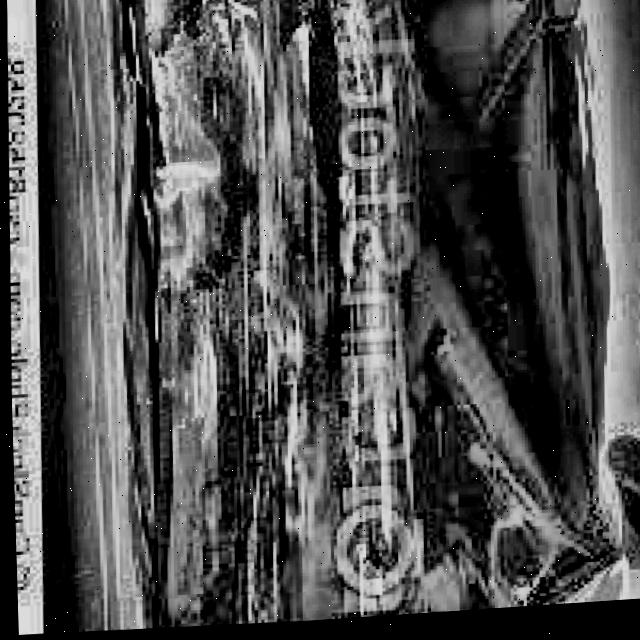door_dent: (80, 0, 616, 635)
door_scratch: (140, 0, 386, 328)
